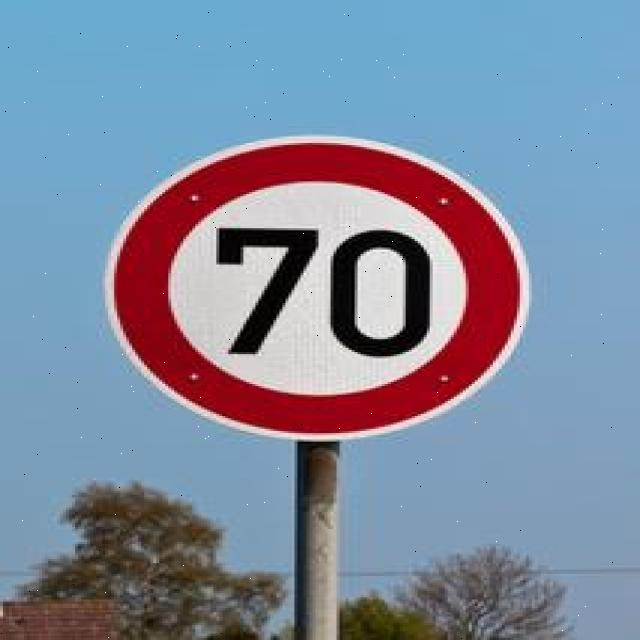speed limit 70: (99, 133, 532, 442)
